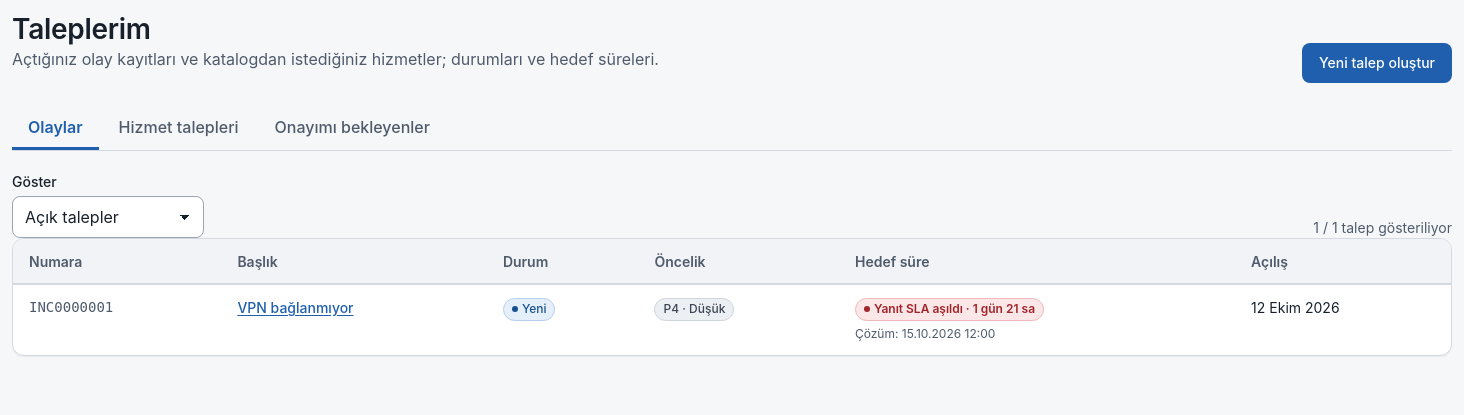
/taleplerim — hizmet talepleri sekmesi › sekmeler: olaylar varsayılan, hizmet talepleri sekmesi kendi listesini çeker
Expected: the button "VPN bağlanmıyor" is shown, top-left (237, 297), bottom-right (354, 318)
Click the tab "Hizmet talepleri" at (179, 128), box top-left (103, 107), bottom-right (254, 150)
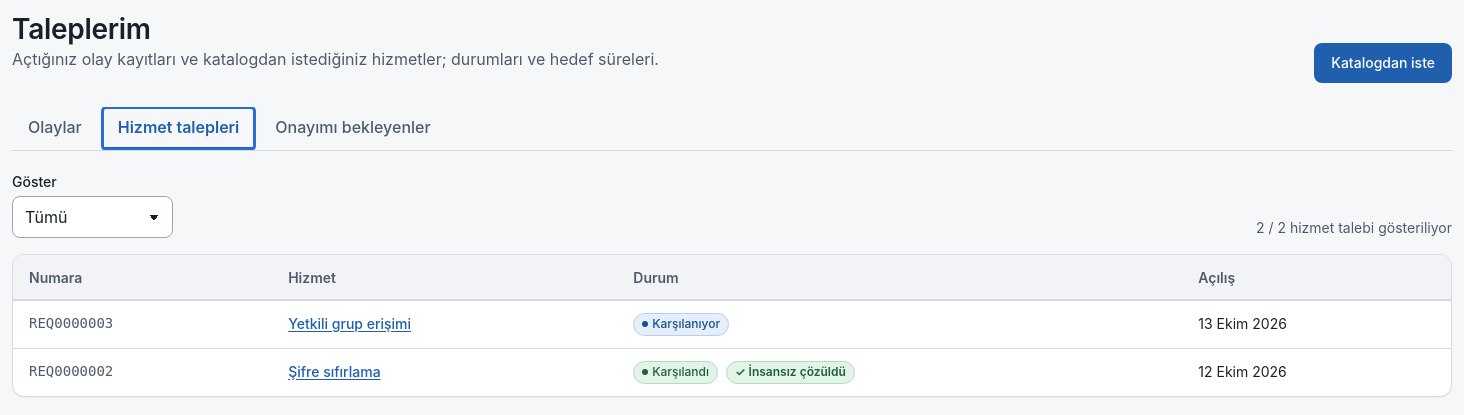
Expected: the text "✓ İnsansız çözüldü" is shown, top-left (726, 361), bottom-right (855, 384)
Expected: the text "Karşılanıyor" is shown, top-left (633, 313), bottom-right (729, 336)
Select "Devam edenler" in the dropdown labelled "Göster" at (92, 217), box top-left (12, 196), bottom-right (173, 238)
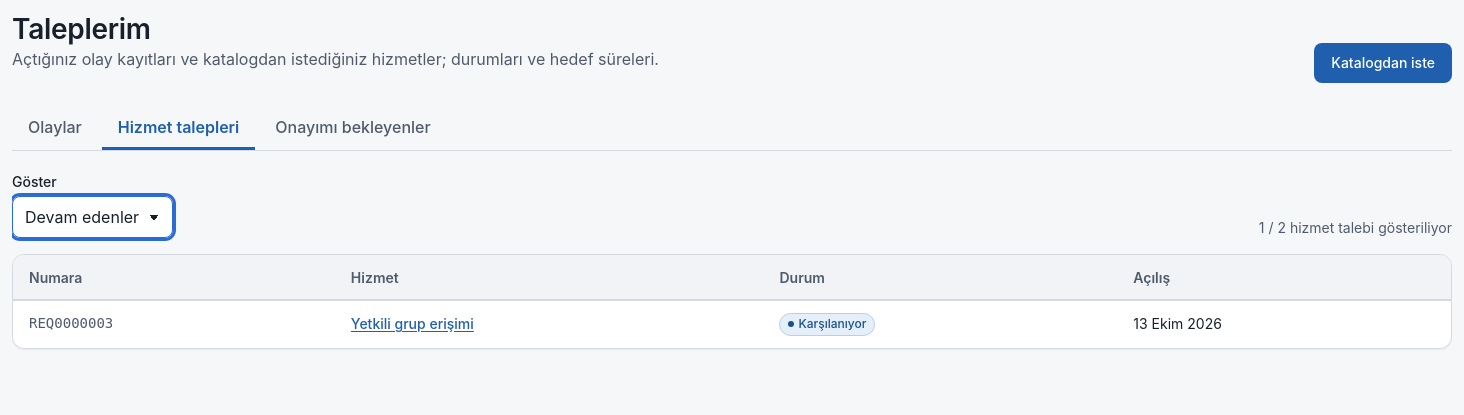
Expected: the text "1 / 2 hizmet talebi gösteriliyor" is shown, top-left (1259, 217), bottom-right (1452, 238)
